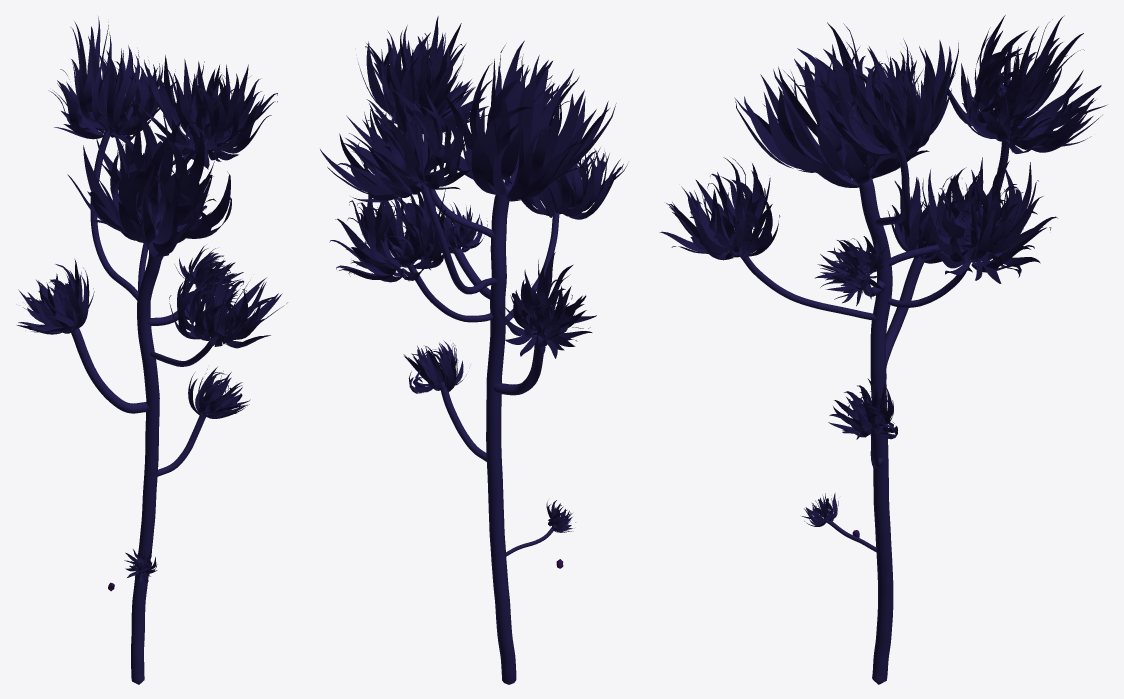
The picture shows the model from 3 angles, left to right: view 1: azimuth 30°, elevation 25°; view 2: azimuth 150°, elevation 25°; view 3: azimuth 270°, elevation 25°; orthographic projection. The views are drawn at different scales.
Parts seen in each view (by area): view 1: brush_Petal_g1_b0, brush_Icing_g1_b0; view 2: brush_Petal_g1_b0, brush_Icing_g1_b0; view 3: brush_Petal_g1_b0, brush_Icing_g1_b0.
Part boxes in pixels (bbox=[...]): brush_Petal_g1_b0: bbox=[17, 16, 287, 583]; brush_Icing_g1_b0: bbox=[70, 129, 228, 684]; brush_Petal_g1_b0: bbox=[320, 16, 627, 532]; brush_Icing_g1_b0: bbox=[391, 138, 559, 684]; brush_Petal_g1_b0: bbox=[659, 15, 1106, 526]; brush_Icing_g1_b0: bbox=[726, 130, 1009, 684].
Bounding box in the file's own units: 6.68 × 16.44 × 9.8.
